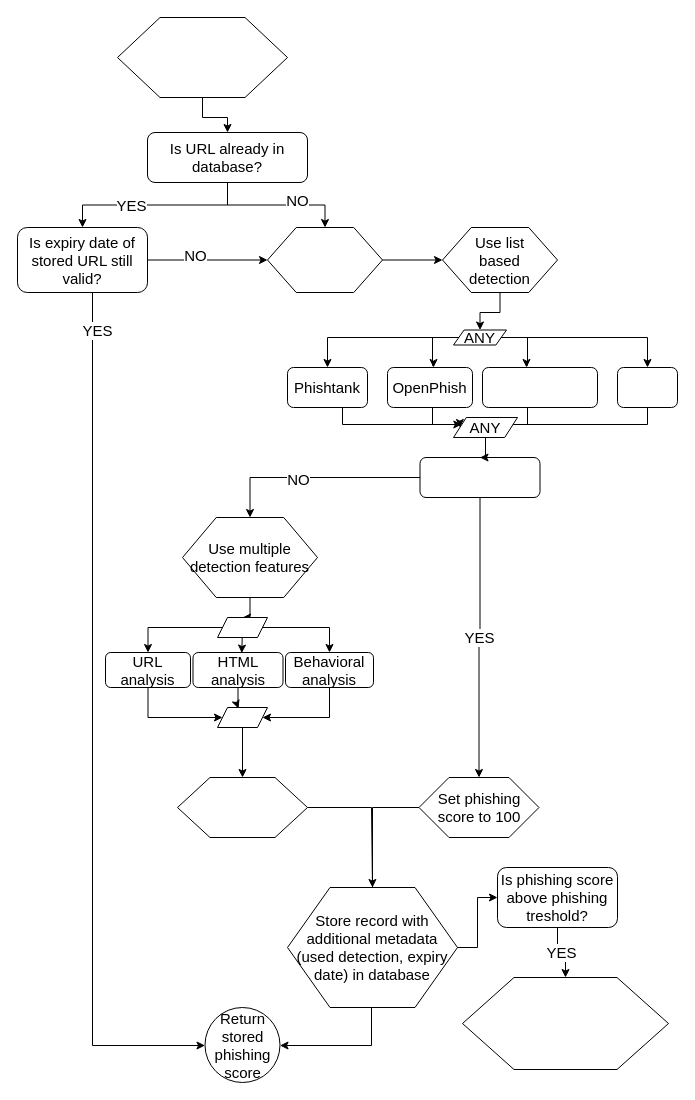
Image size: 695x1100. Some labels were removed from this diagram. Each missing label, with the centre of its shape:
"Compute phishing score" belongs at pixel 324 259.
"Detect phishing score for a given URL" belongs at pixel 202 57.
"DNSBL" belongs at pixel 647 387.
"Google safe browsing API" belongs at pixel 540 387.
"Is URL in list?" belongs at pixel 479 477.
"Send information to phishing services (Phishtank, Google safe browsing)" belongs at pixel 565 1023.
"Set phishing score to computed" belongs at pixel 242 807.
